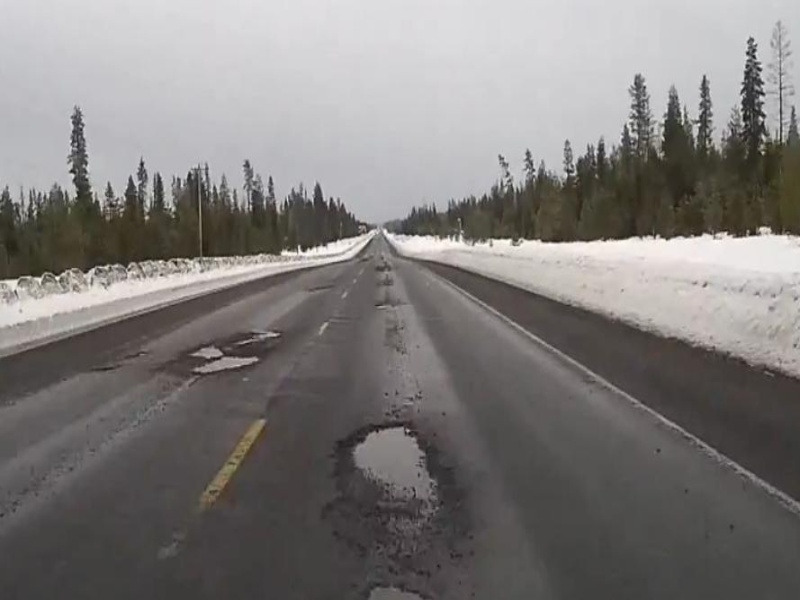pothole: (334, 419, 453, 536), (183, 353, 265, 377), (186, 346, 225, 361)
